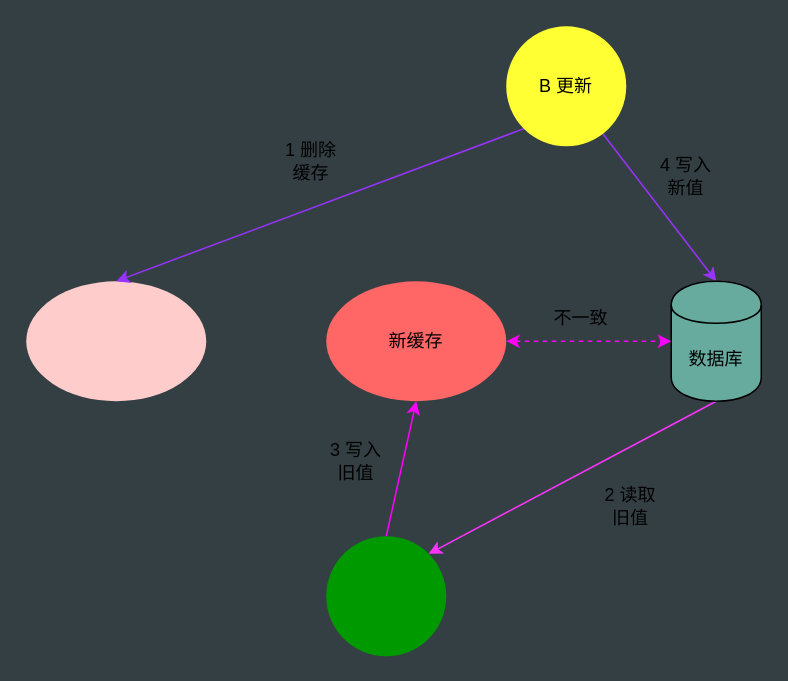
Some shapes in this 788 by 681 pixel diagram are drawn without their labels. The shapes that lost their labels are listed below. From the top down, each one's centre as x and y in pixels, then its label:
point 116,340: 旧缓存
point 386,596: A 读取
